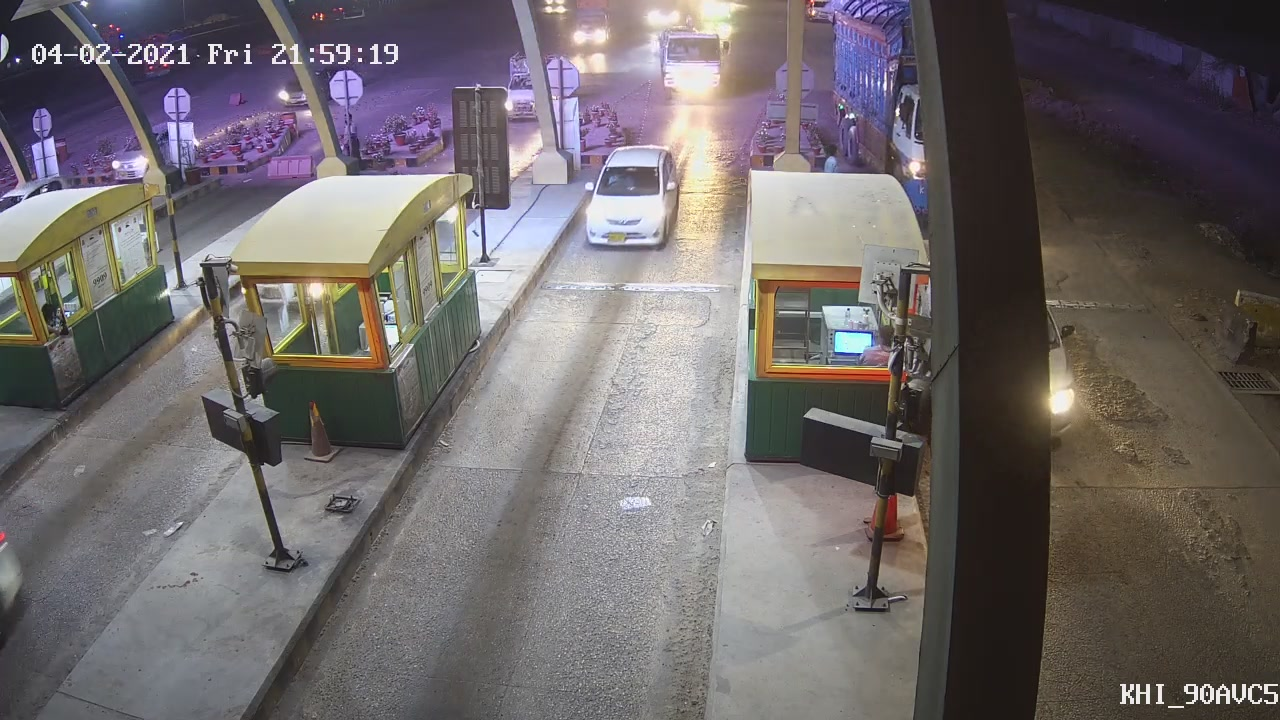F1: (580, 142, 684, 251)
